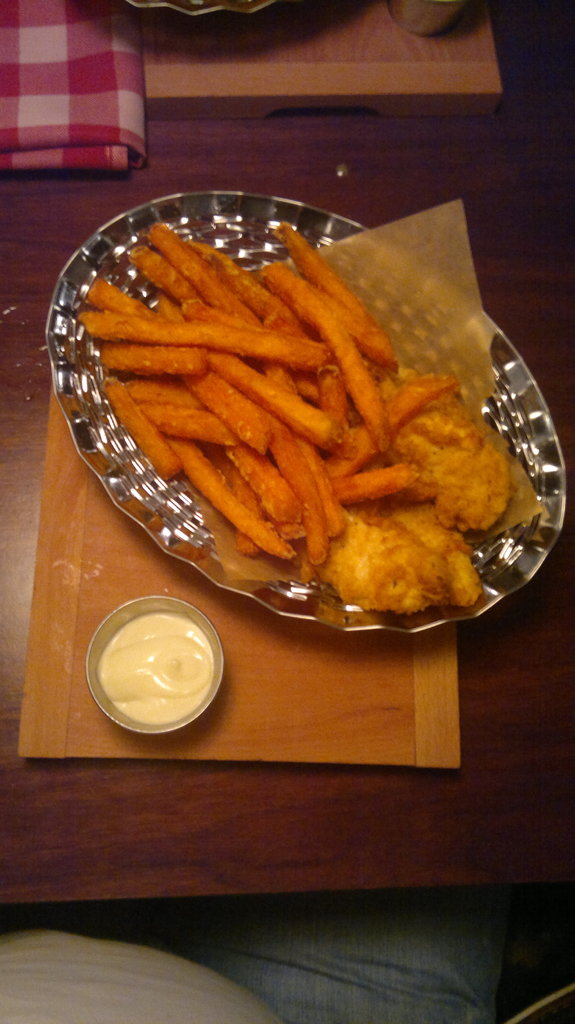French fries: (80, 229, 494, 590)
